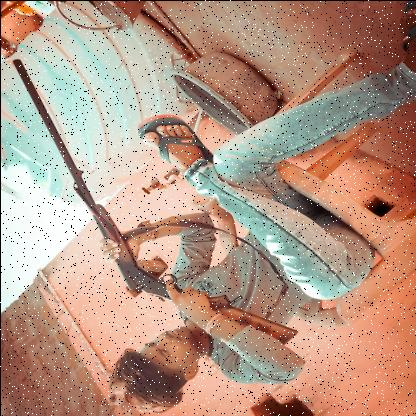rifle: (10, 56, 300, 356)
